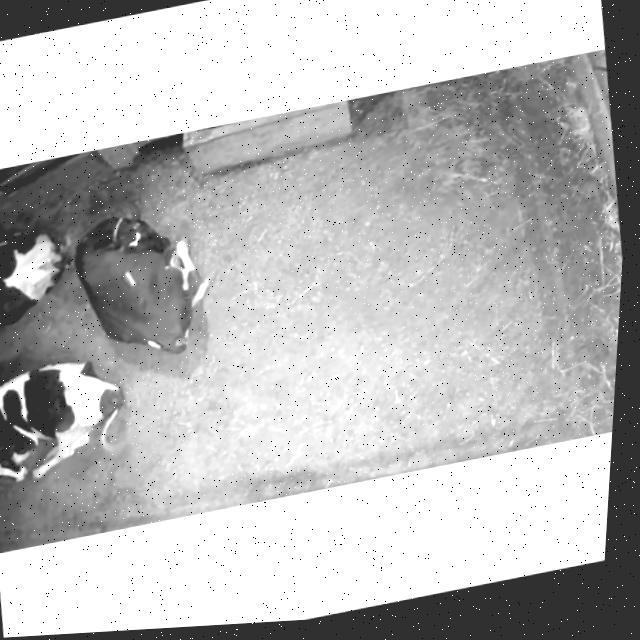lay: (55, 176, 230, 371), (0, 339, 142, 499), (0, 200, 77, 343)
